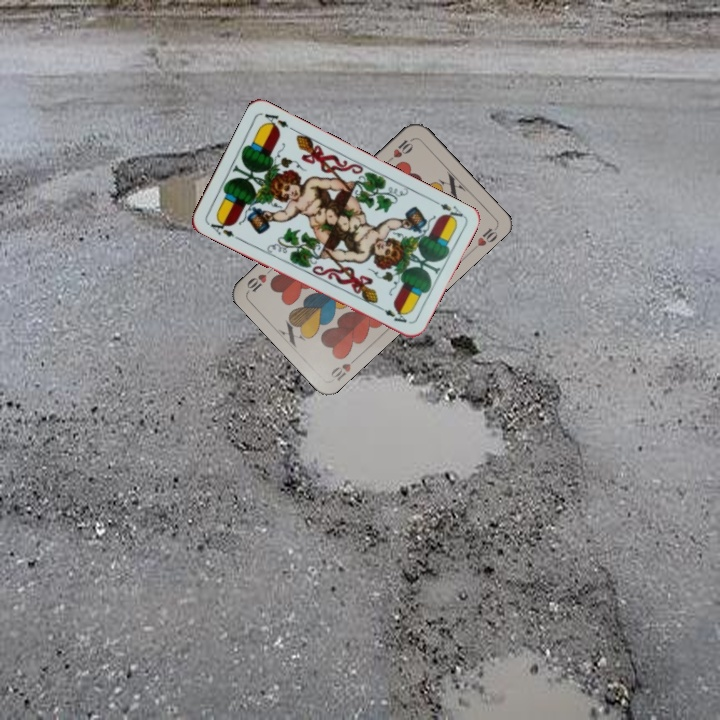EA: (204, 215, 242, 242), (436, 199, 466, 224)
H10: (327, 352, 361, 383), (383, 134, 416, 165)
